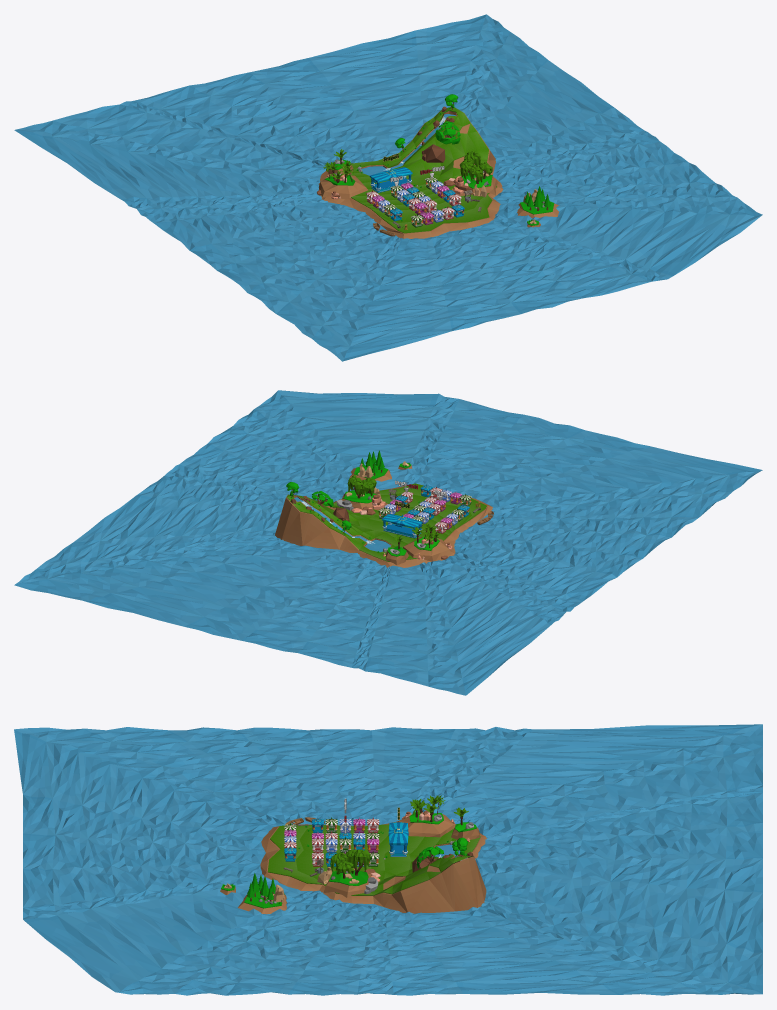
The model's file is packed.glb.
3 renders of one model, top to bottom at view 1: azimuth 30°, elevation 25°; view 2: azimuth 150°, elevation 25°; view 3: azimuth 270°, elevation 25°, orthographic. The views are drawn at different scales.
Visible parts, largest first — view 1: Envi.001, Envi, Panggung; view 2: Envi.001, Envi, Panggung; view 3: Envi.001, Envi, Panggung.
Boxes of the visible parts, x1,y1,x2,y2 form: Envi.001: (14,14,762,361); Envi: (317,94,558,238); Panggung: (369,167,412,192); Envi.001: (14,390,762,695); Envi: (275,450,492,567); Panggung: (382,513,422,538); Envi.001: (14,724,762,995); Envi: (220,795,486,914); Panggung: (388,822,408,856).
Size of the model in its own units: 128 by 14.55 by 150.
13 materials, 11 textured.
